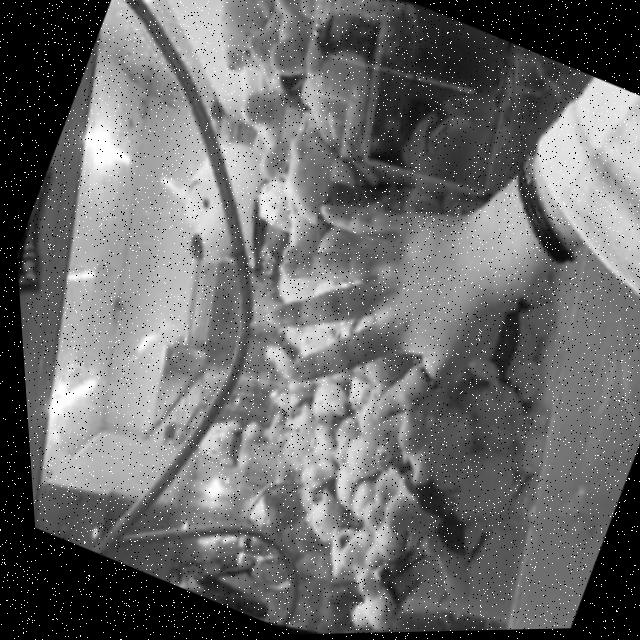hand: (221, 148, 545, 467)
